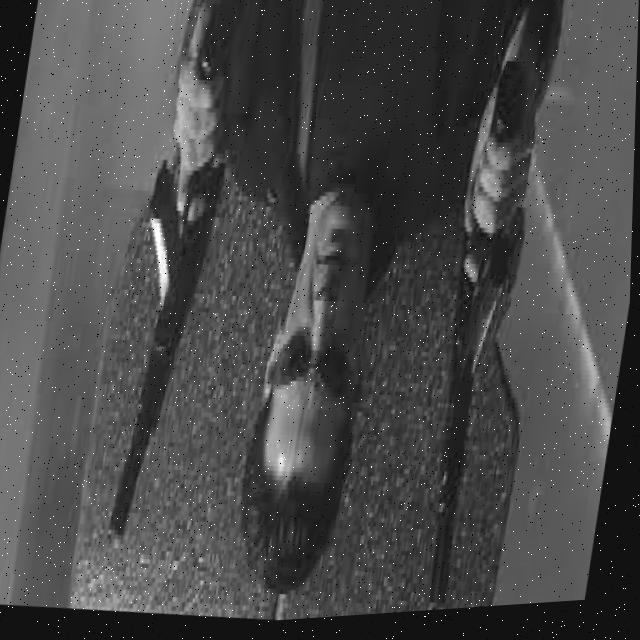pistol: (101, 0, 250, 552), (402, 57, 543, 618)
